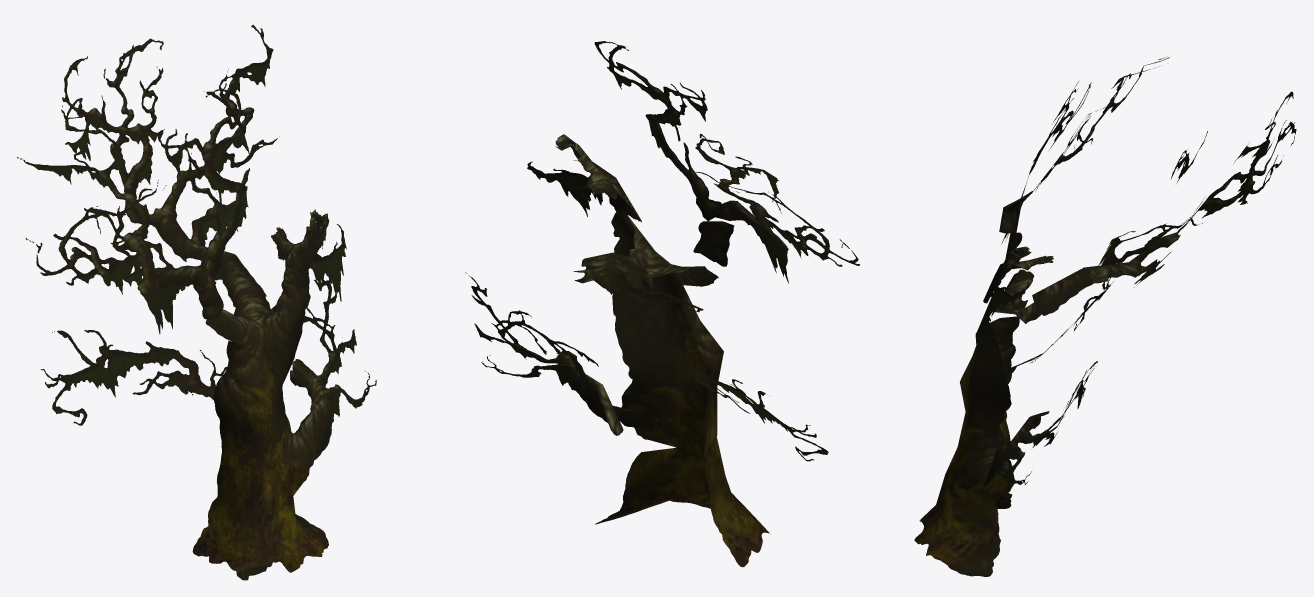
Rendered from hazz_tree_08.FBX.
The picture shows the model from 3 angles, left to right: view 1: azimuth 30°, elevation 25°; view 2: azimuth 150°, elevation 25°; view 3: azimuth 270°, elevation 25°; orthographic projection. The views are drawn at different scales.
Visible parts, largest first — view 1: hazz_tree_08; view 2: hazz_tree_08; view 3: hazz_tree_08.
Part boxes in pixels (box(x1,y1,x2,y2)): hazz_tree_08: box(17, 24, 376, 580); hazz_tree_08: box(465, 41, 859, 567); hazz_tree_08: box(914, 56, 1296, 576).
Bounding box in the file's own units: 578 × 729 × 535.
